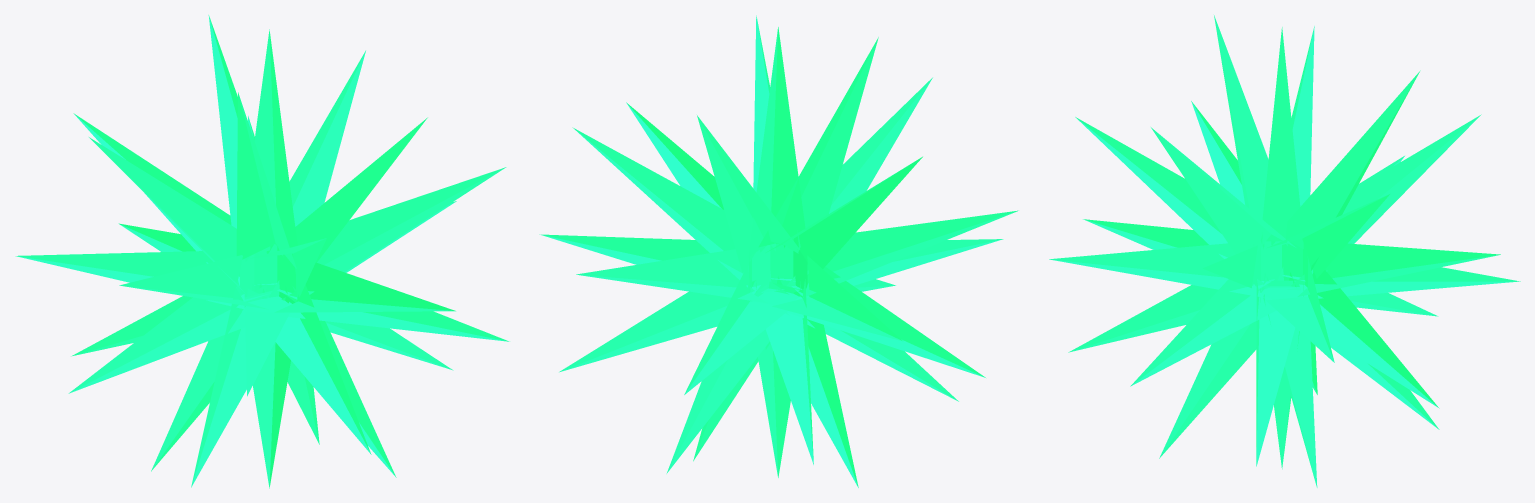
The model's file is burst_jade.glb.
3 views of the same model, side by side, from view 1: azimuth 30°, elevation 25°; view 2: azimuth 150°, elevation 25°; view 3: azimuth 270°, elevation 25° (orthographic). The views are drawn at different scales.
Visible parts, largest first — view 1: burst; view 2: burst; view 3: burst.
Part boxes in pixels (x1,y1,x2,y2): burst: [15, 15, 509, 488]; burst: [539, 15, 1018, 487]; burst: [1049, 15, 1520, 487].
Bounding box in the file's own units: 1.19 × 1.24 × 1.2.
